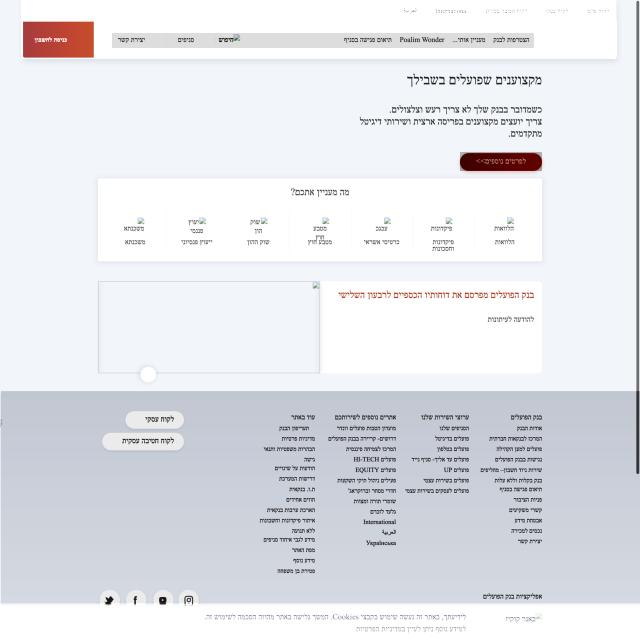CheckBox: (460, 152, 542, 171)
badge: (1, 392, 640, 606)
bag: (21, 0, 616, 59)
decoration: (111, 33, 534, 48), (400, 3, 612, 18)
header: (0, 604, 640, 640)
